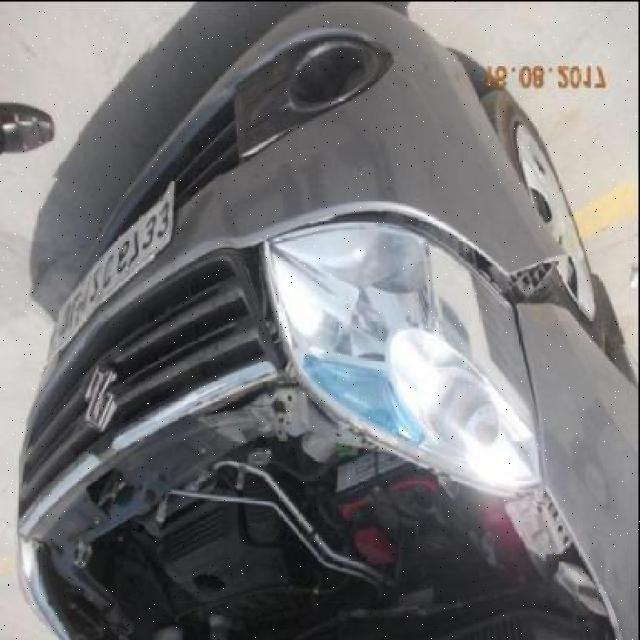damage: (265, 204, 573, 304)
